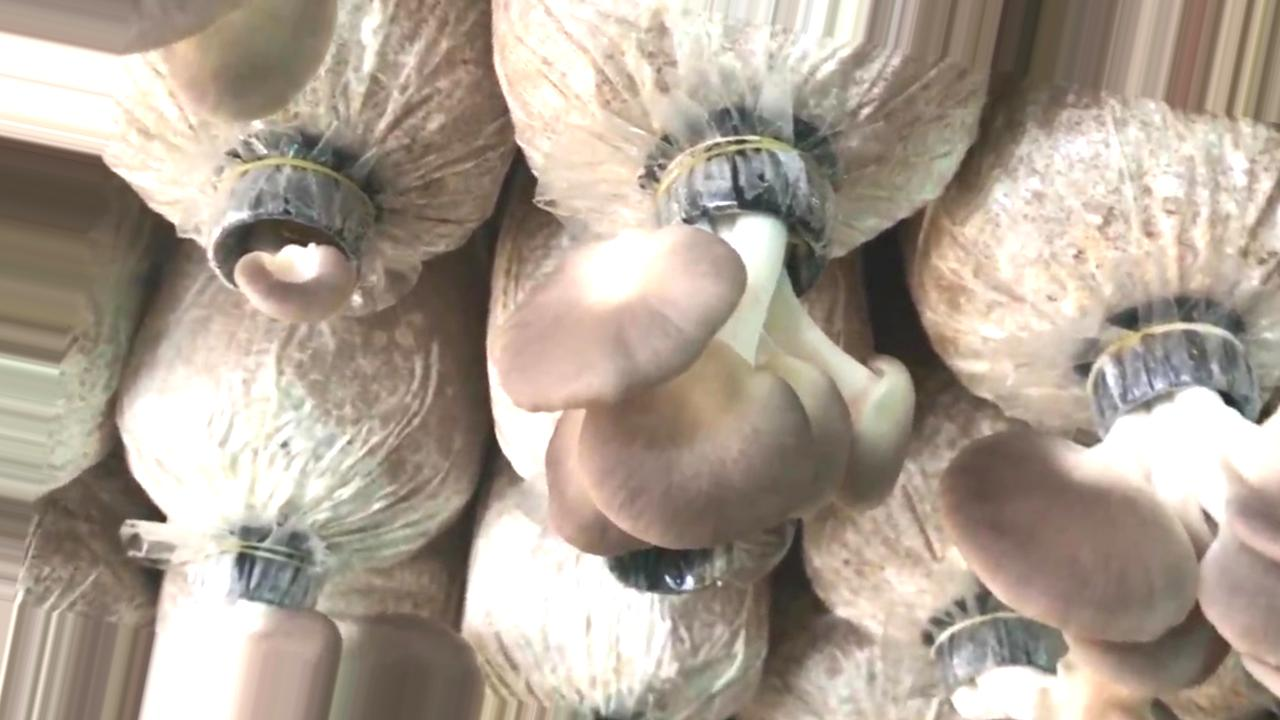nam: (495, 142, 916, 552), (939, 330, 1280, 695), (142, 564, 479, 720), (1, 1, 333, 124), (202, 152, 375, 320)
